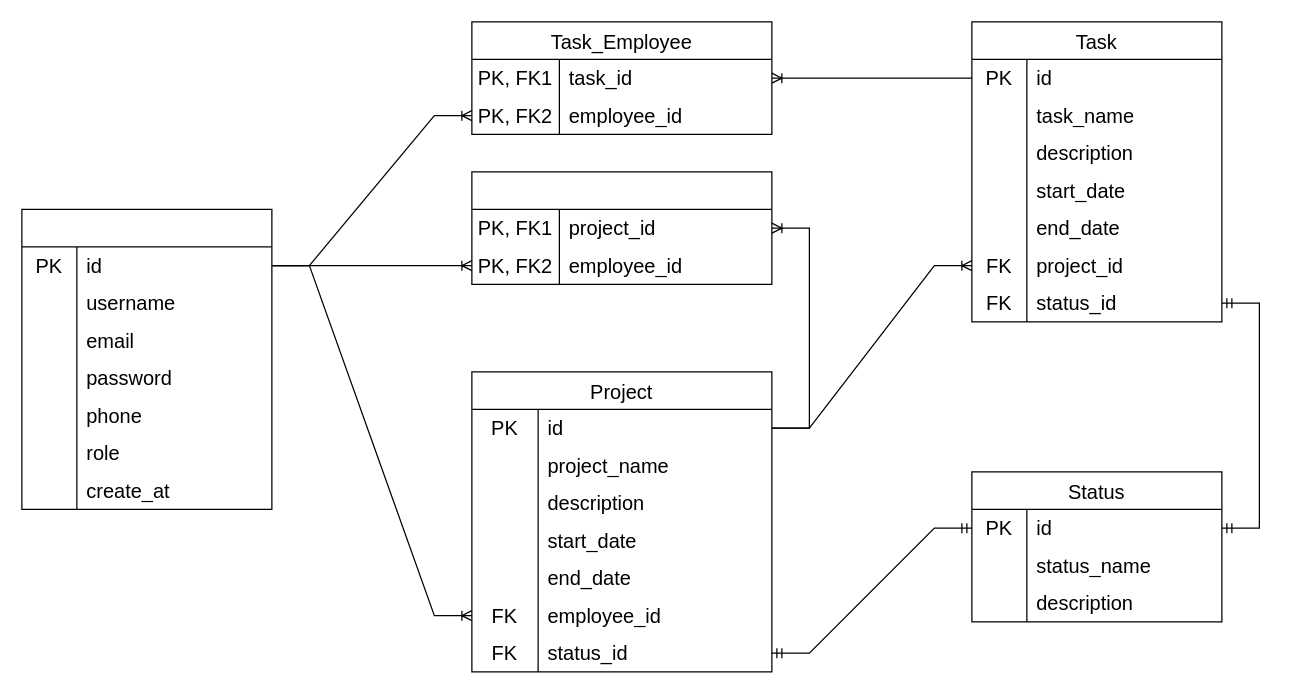
The diagram is 1293 pixels wide and 694 high, and some of its shapes have lost their labels. The box of each missing label's shape, as (x1, y1, x2, y2) in pixels:
Employee: (21, 208, 272, 509)
Project_Employee: (471, 171, 772, 284)
